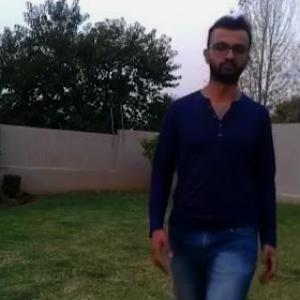follow: (157, 33, 260, 299)
